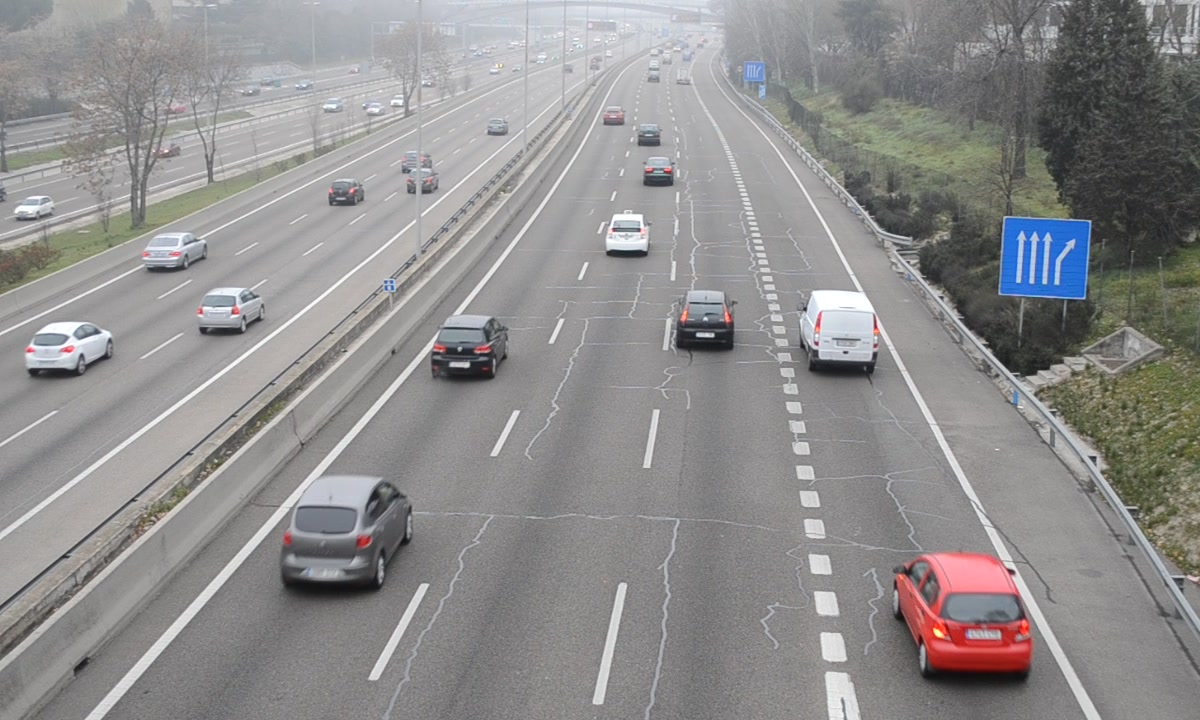car: (897, 551, 1034, 676), (279, 476, 412, 590), (431, 313, 508, 379), (675, 289, 732, 349), (605, 213, 650, 255), (643, 155, 676, 186), (637, 121, 663, 145)
van: (804, 290, 878, 371)
